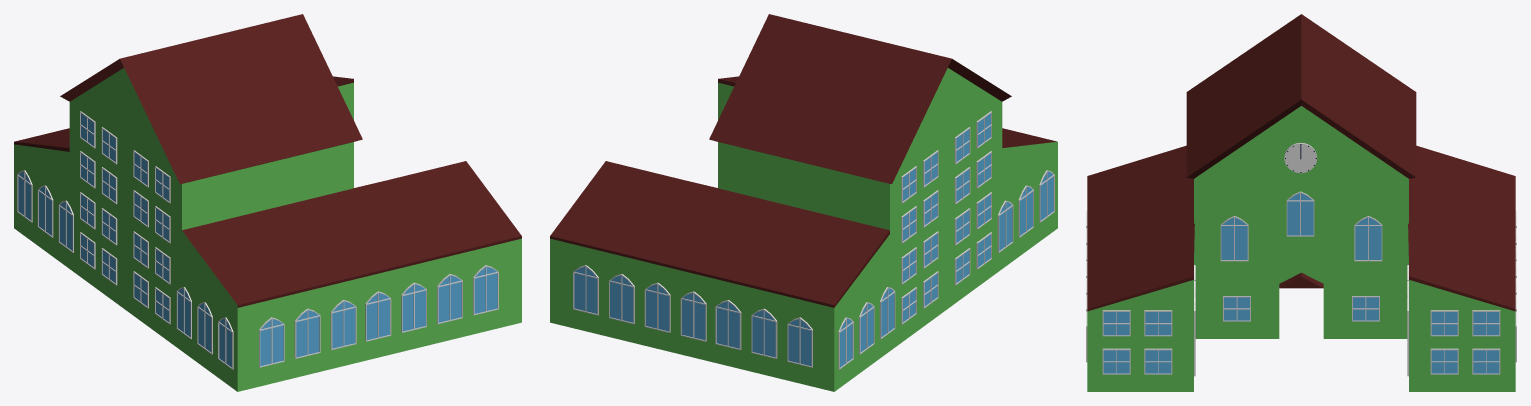
Rendered from school.fbx.
The picture shows the model from 3 angles, left to right: view 1: azimuth 30°, elevation 25°; view 2: azimuth 150°, elevation 25°; view 3: azimuth 270°, elevation 25°; orthographic projection. The views are drawn at different scales.
Visible parts, largest first — view 1: Cube.021; view 2: Cube.021; view 3: Cube.021.
Boxes of the visible parts, <box> form: Cube.021: <box>14,14,521,391</box>; Cube.021: <box>550,14,1057,391</box>; Cube.021: <box>1086,14,1516,391</box>.
Size of the model in its own units: 703 by 583 by 939.
